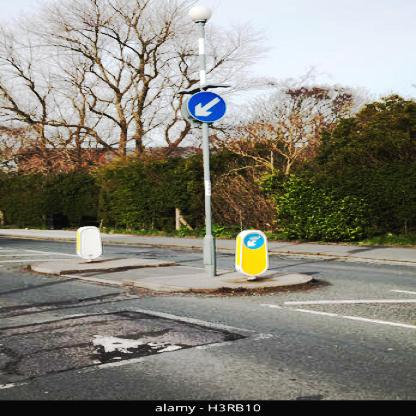Keep left: (186, 86, 233, 126), (242, 231, 272, 252)
